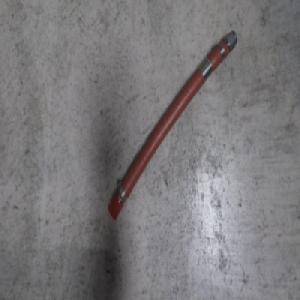Hose: (107, 26, 239, 221)
